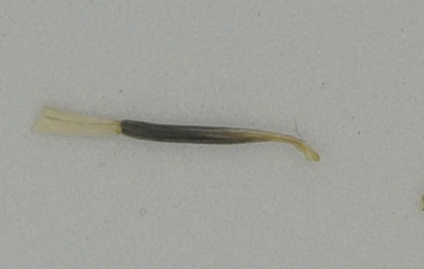เมล้ดปลายพู่กัน: (29, 104, 324, 164)
